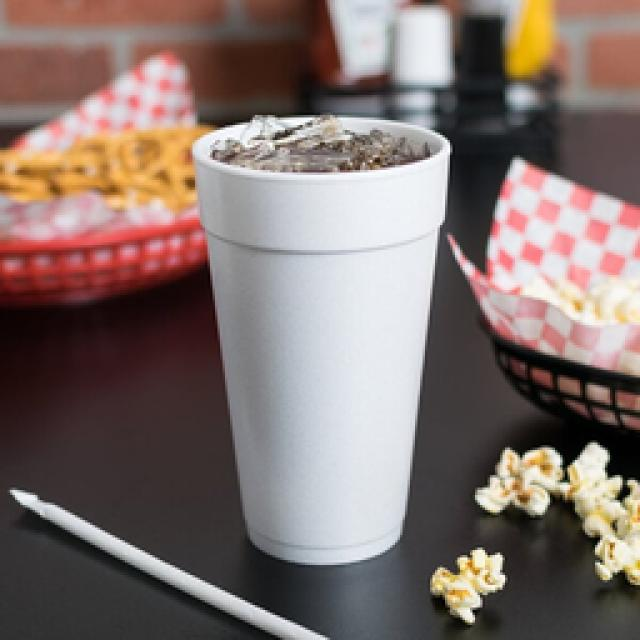styrofoam: (192, 118, 445, 562)
